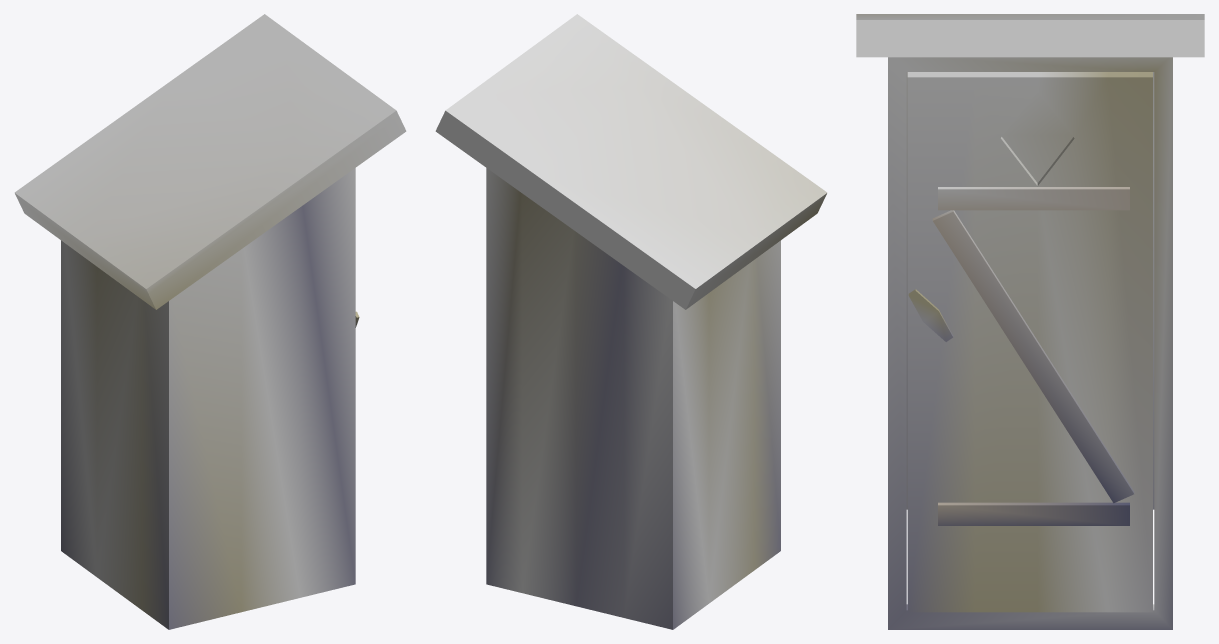
The model's file is Prop_ToiletV3.fbx.
3 renders of one model, left to right at view 1: azimuth 30°, elevation 25°; view 2: azimuth 150°, elevation 25°; view 3: azimuth 270°, elevation 25°, orthographic. The views are drawn at different scales.
Parts seen in each view (by area): view 1: Prop_ToiletV3; view 2: Prop_ToiletV3; view 3: Prop_ToiletV3.
Boxes of the visible parts, left/top/right/bottom form: Prop_ToiletV3: left=14, top=14, right=406, bottom=629; Prop_ToiletV3: left=435, top=14, right=827, bottom=629; Prop_ToiletV3: left=856, top=14, right=1204, bottom=629.
Bounding box in the file's own units: 112 × 195 × 97.84.
